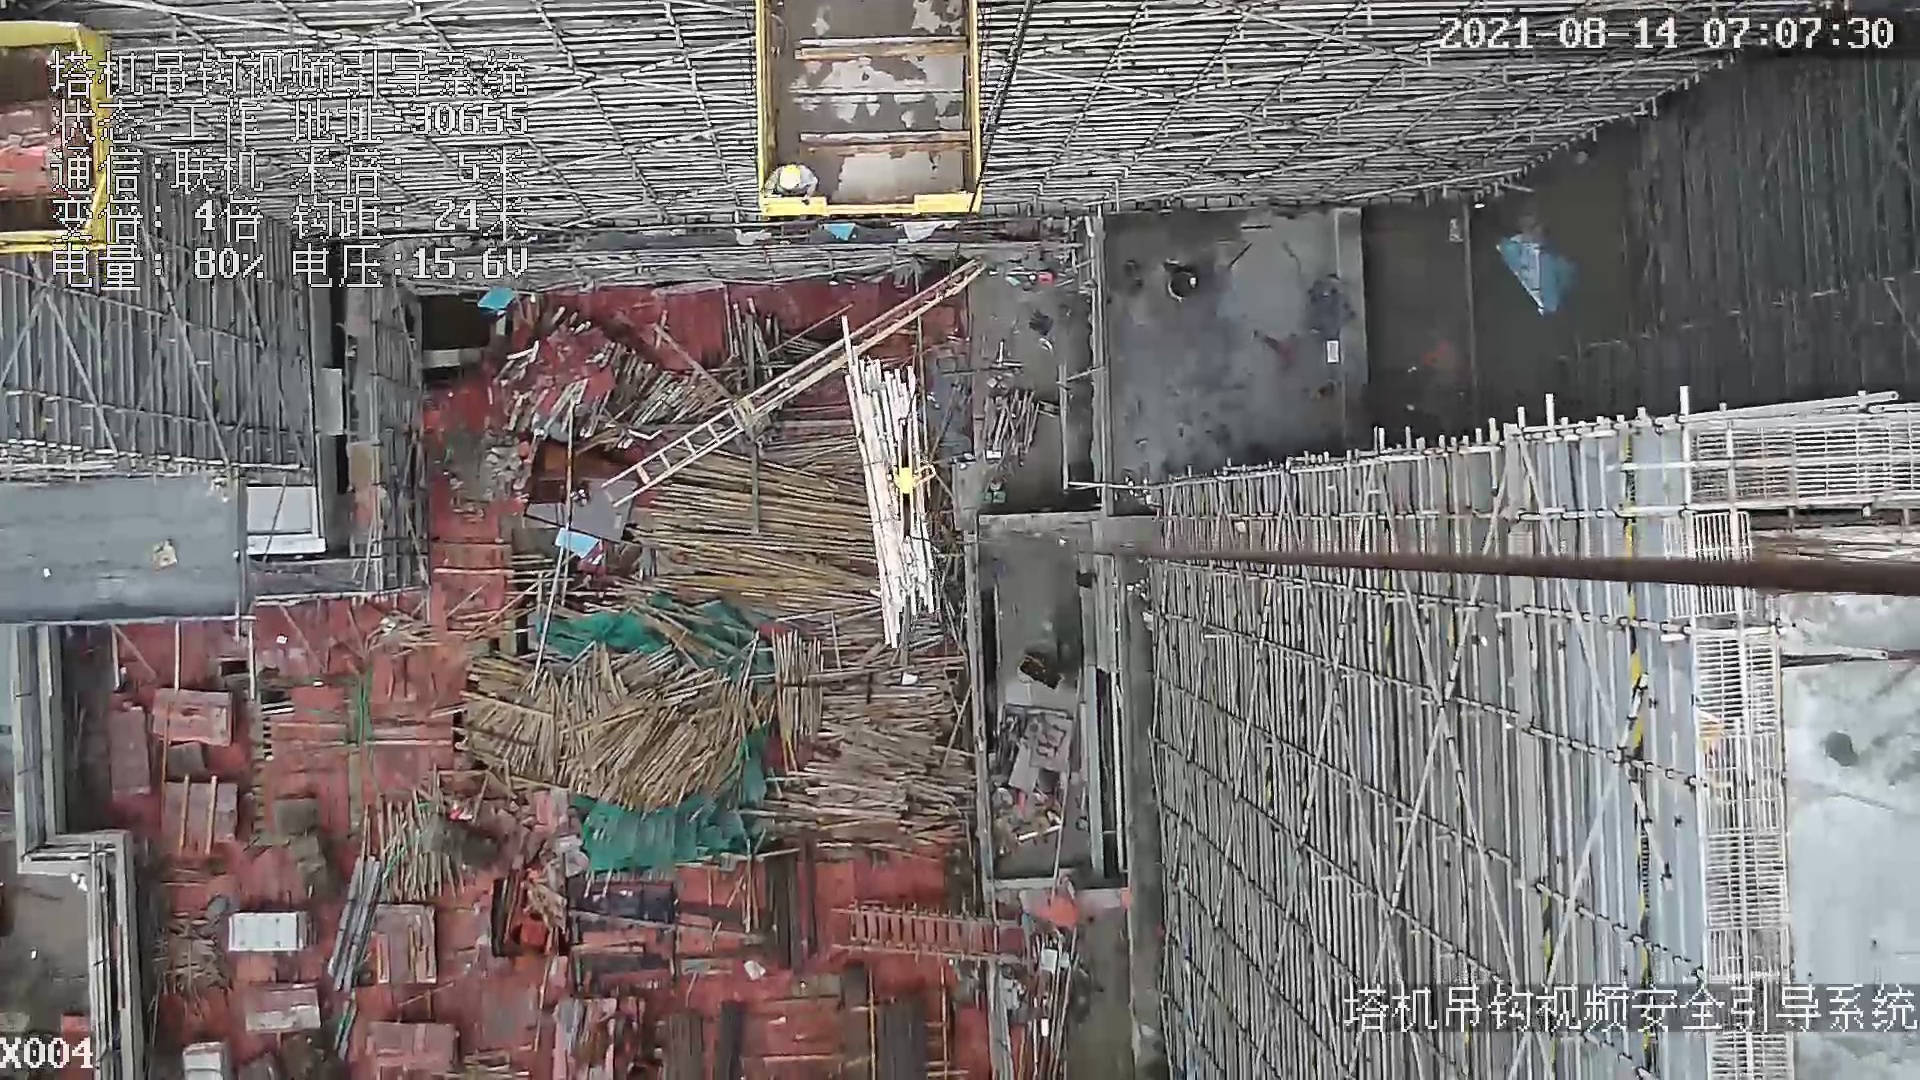helmet: (778, 163, 802, 189)
hook: (892, 428, 942, 544)
person: (768, 168, 819, 200)
